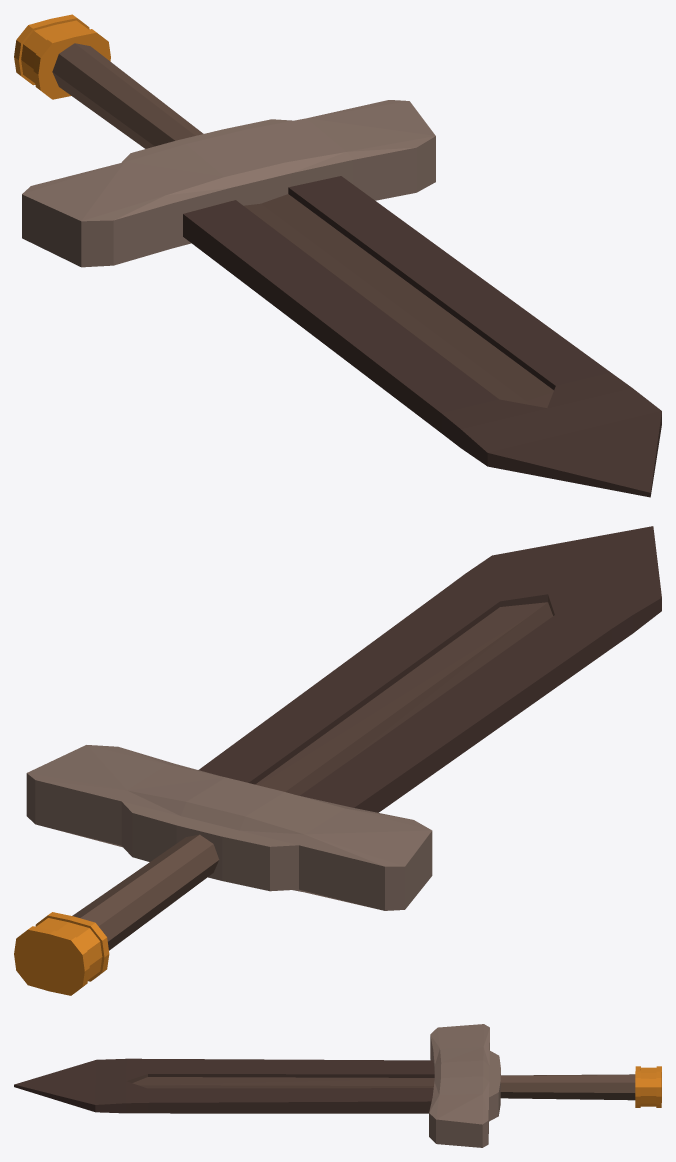
The model's file is sword.obj.
3 views of the same model, one above another, from view 1: azimuth 30°, elevation 25°; view 2: azimuth 150°, elevation 25°; view 3: azimuth 270°, elevation 25° (orthographic). The views are drawn at different scales.
Visible parts, largest first — view 1: Sword; view 2: Sword; view 3: Sword.
Part boxes in pixels (x1,y1,x2,y2): Sword: (14,14,661,497); Sword: (14,526,661,995); Sword: (14,1024,661,1147).
Bounding box in the file's own units: 0.7137 × 0.116 × 1.94.
Materials: 1 (1 with a texture image).
